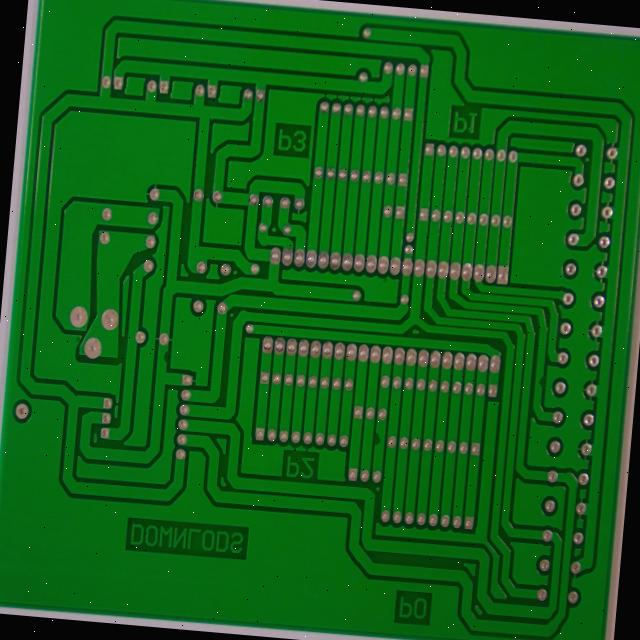mouse_bite: (330, 508, 347, 534), (513, 437, 529, 464), (92, 410, 106, 436)
